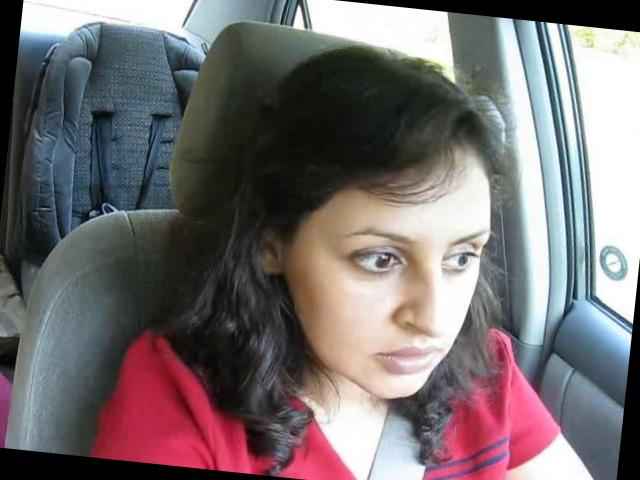eye_open: (338, 240, 410, 286), (445, 243, 484, 276)
face: (285, 187, 496, 410)
